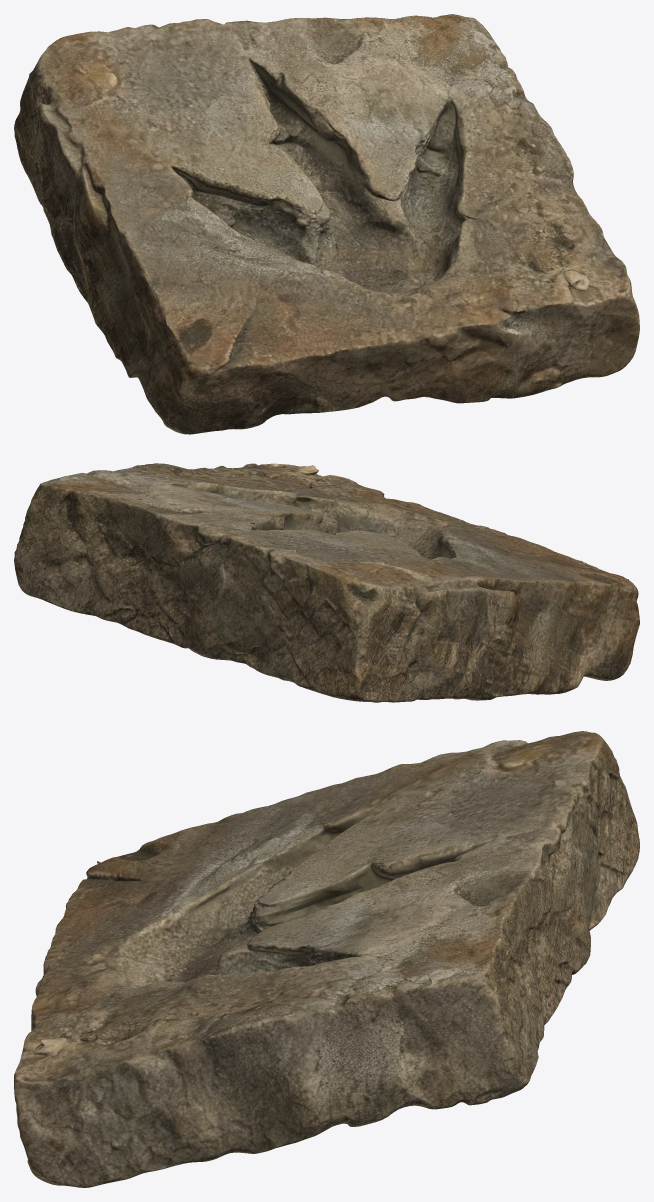
File: dinosaur_footprint_slab.glb
3 views of the same model, one above another, from view 1: azimuth 30°, elevation 25°; view 2: azimuth 150°, elevation 25°; view 3: azimuth 270°, elevation 25° (orthographic). The views are drawn at different scales.
Parts seen in each view (by area): view 1: tripo_node_21de864b-7d7a-4cec-938c-6e39a81a3ce6; view 2: tripo_node_21de864b-7d7a-4cec-938c-6e39a81a3ce6; view 3: tripo_node_21de864b-7d7a-4cec-938c-6e39a81a3ce6.
Part boxes in pixels (x1=…): tripo_node_21de864b-7d7a-4cec-938c-6e39a81a3ce6: x1=14, y1=14, x2=639, y2=434; tripo_node_21de864b-7d7a-4cec-938c-6e39a81a3ce6: x1=14, y1=463, x2=639, y2=702; tripo_node_21de864b-7d7a-4cec-938c-6e39a81a3ce6: x1=14, y1=731, x2=639, y2=1187.
Size of the model in its own units: 0.9781 by 0.4803 by 0.9793.
1 material, 1 textured.
